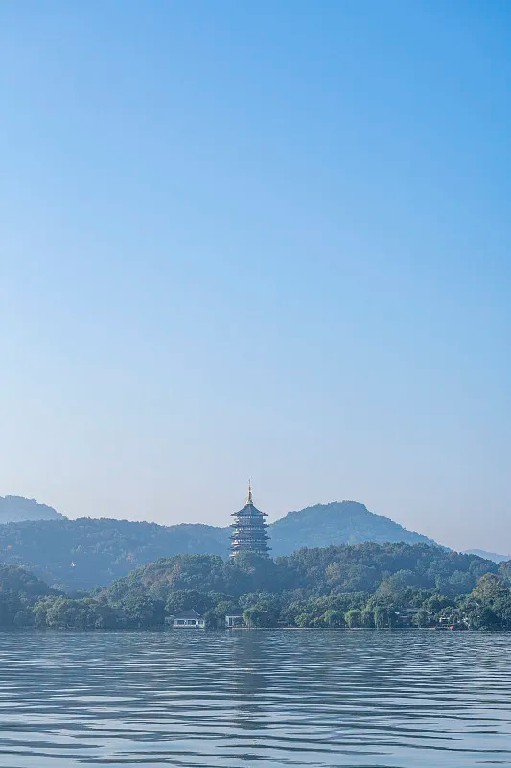Leifeng: (229, 478, 273, 565)
